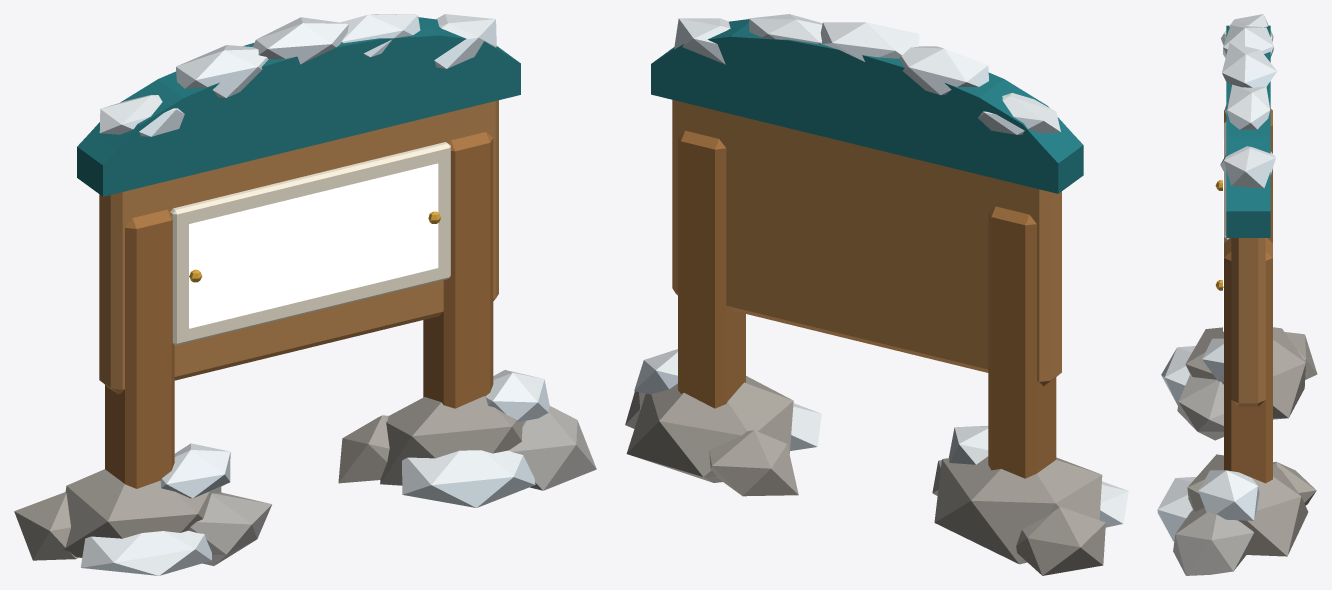
Rendered from home_number_plaque.glb.
3 renders of one model, left to right at view 1: azimuth 30°, elevation 25°; view 2: azimuth 150°, elevation 25°; view 3: azimuth 270°, elevation 25°, orthographic. The views are drawn at different scales.
Parts seen in each view (by area): view 1: home_number_plaque; view 2: home_number_plaque; view 3: home_number_plaque.
Part boxes in pixels (x1,y1,x2,y2): home_number_plaque: (14, 14, 596, 575); home_number_plaque: (625, 14, 1128, 575); home_number_plaque: (1157, 14, 1317, 575).
Size of the model in its own units: 1.04 by 0.9753 by 0.326.
